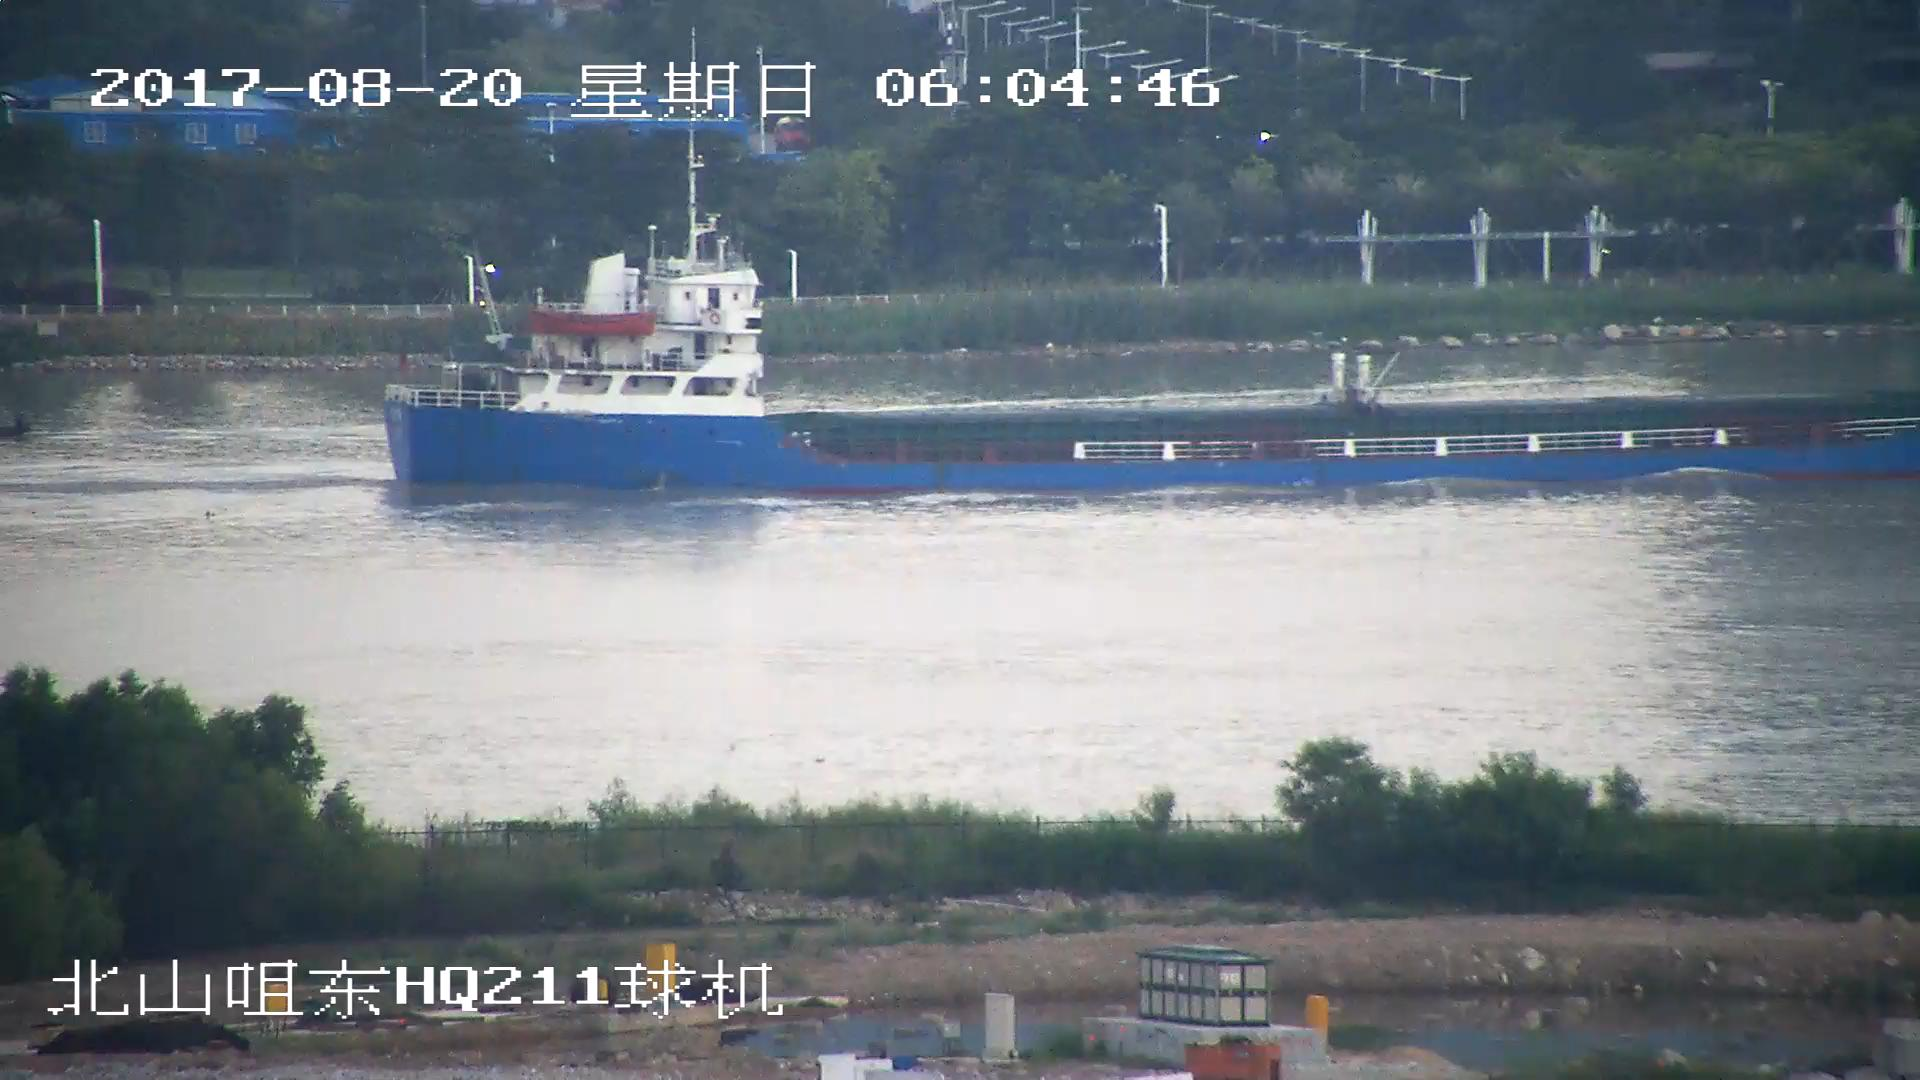general cargo ship: (379, 212, 1920, 490)
